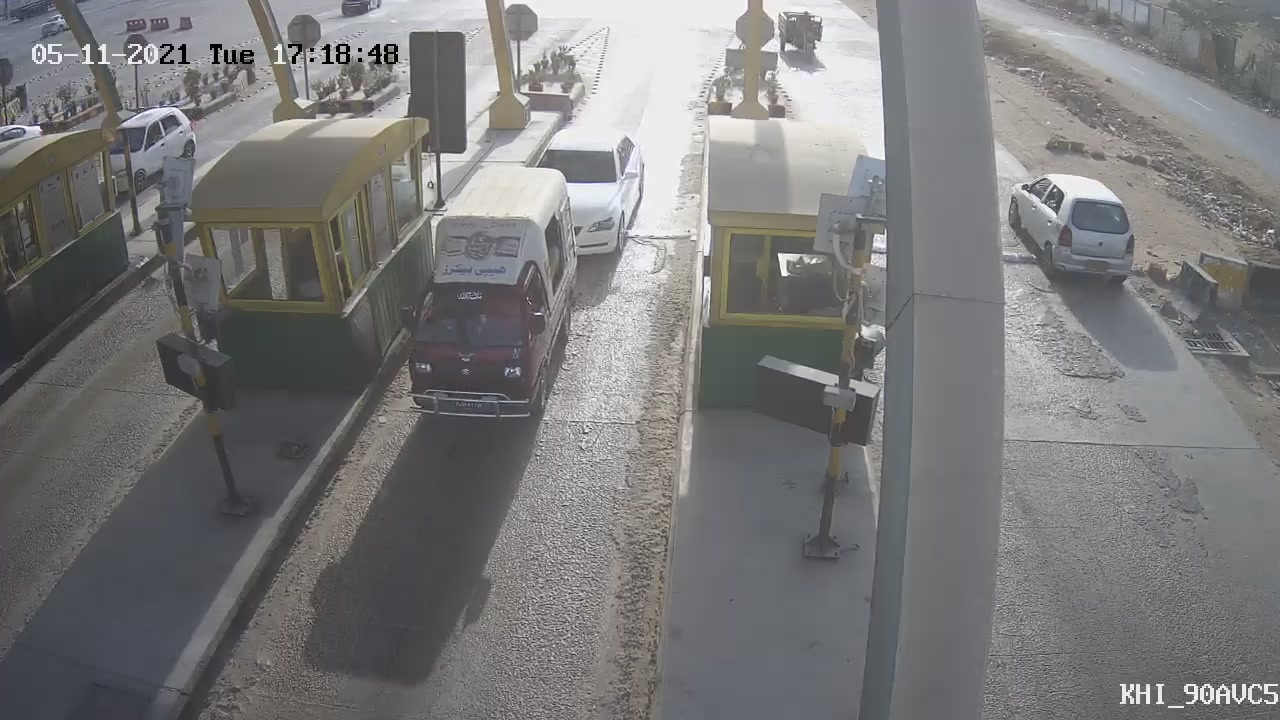F1: (372, 149, 600, 448)
